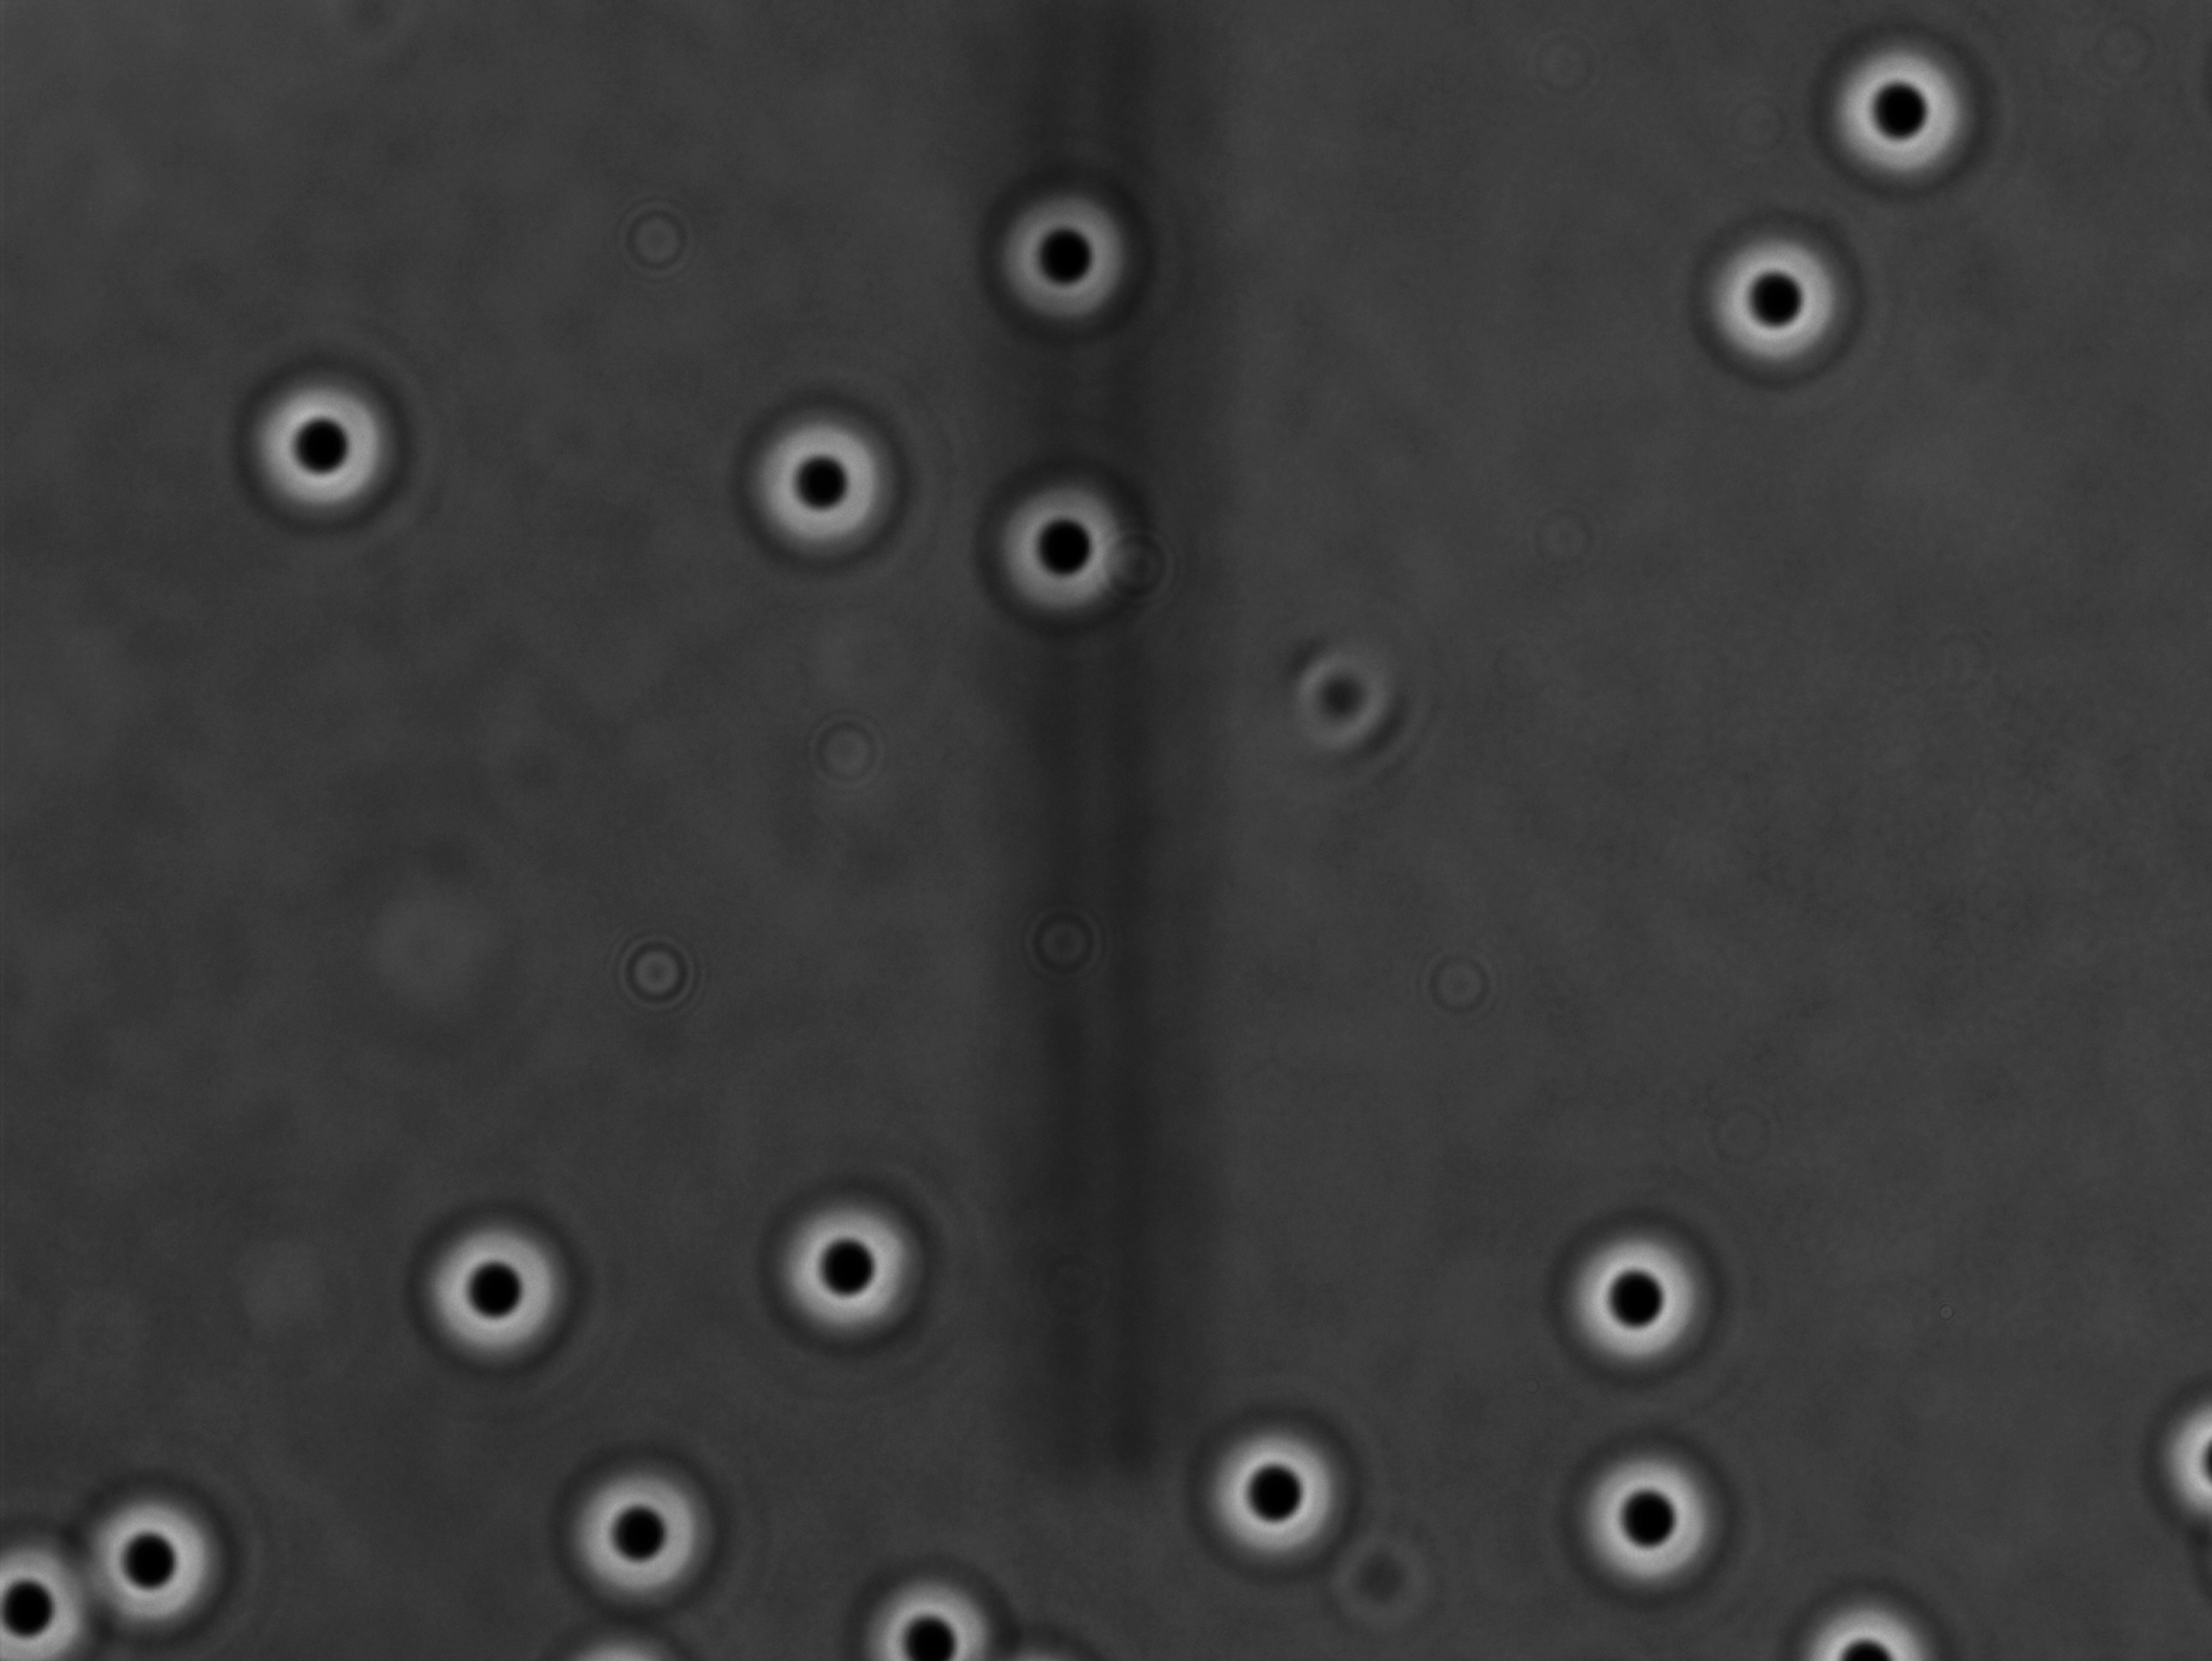depth:-60: (72, 1457, 274, 1647), (398, 1195, 595, 1384), (759, 1169, 952, 1359), (717, 387, 918, 567), (1546, 1207, 1738, 1394), (1690, 211, 1879, 400), (972, 459, 1164, 637), (550, 1431, 731, 1616), (232, 356, 424, 530), (1186, 1403, 1373, 1579), (1814, 19, 2001, 195), (1567, 1434, 1748, 1612), (979, 176, 1155, 352), (850, 1553, 1027, 1661)
